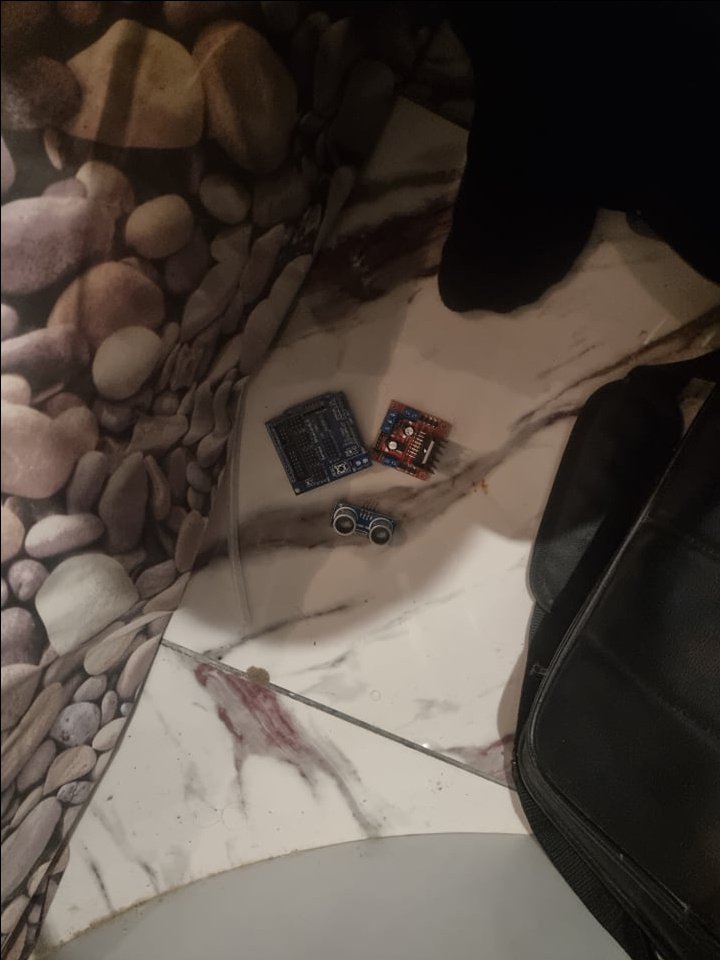5V EXPANSION: (265, 390, 370, 494)
MOTOR: (373, 397, 451, 480)
SENSOR: (327, 498, 393, 545)
